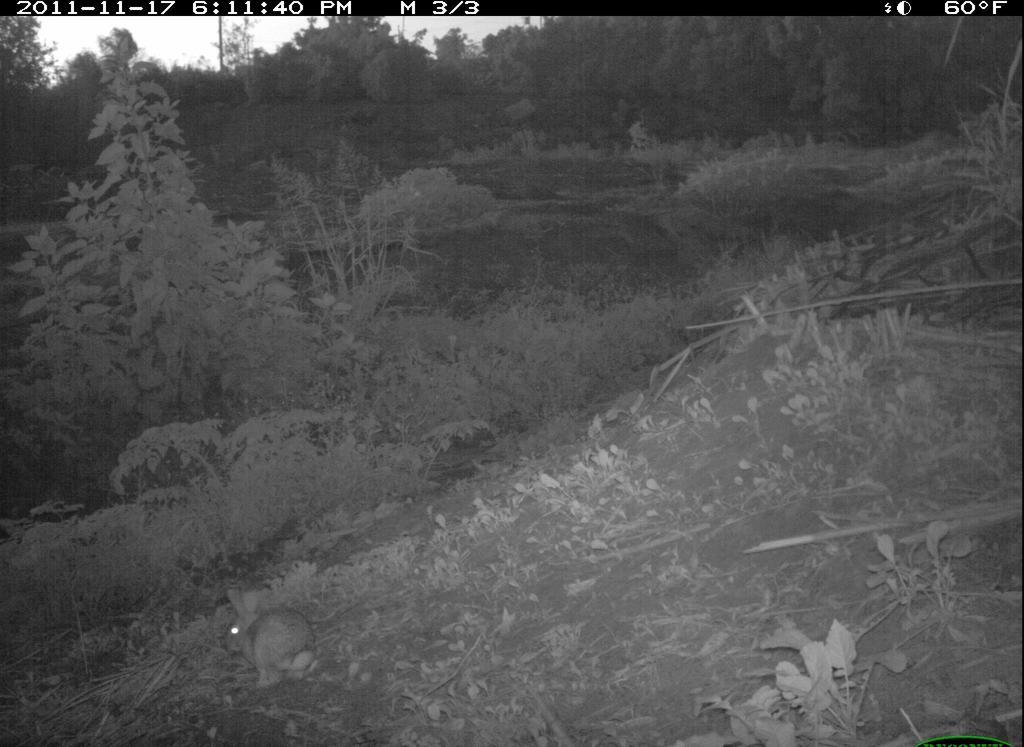rabbit: (213, 582, 328, 698)
